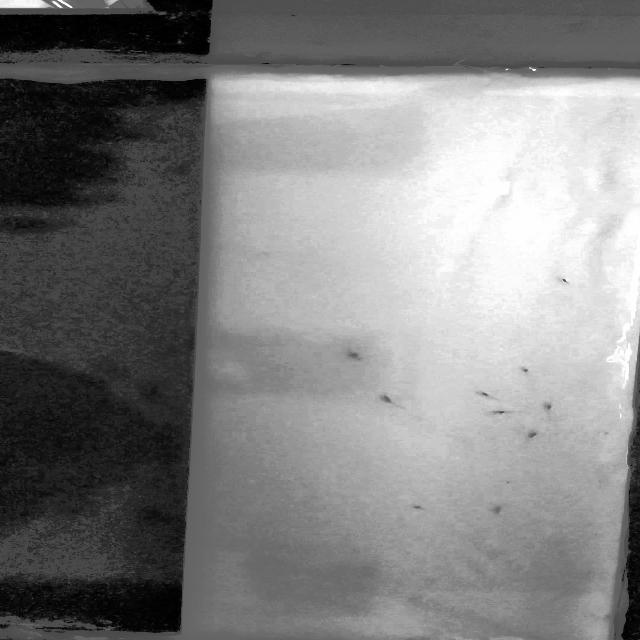shrimp: (481, 408, 529, 418), (341, 348, 369, 363), (475, 389, 502, 403), (376, 395, 404, 407), (540, 401, 562, 414), (555, 274, 576, 287), (520, 429, 546, 439), (488, 502, 505, 517), (409, 504, 429, 512), (517, 366, 535, 374)
